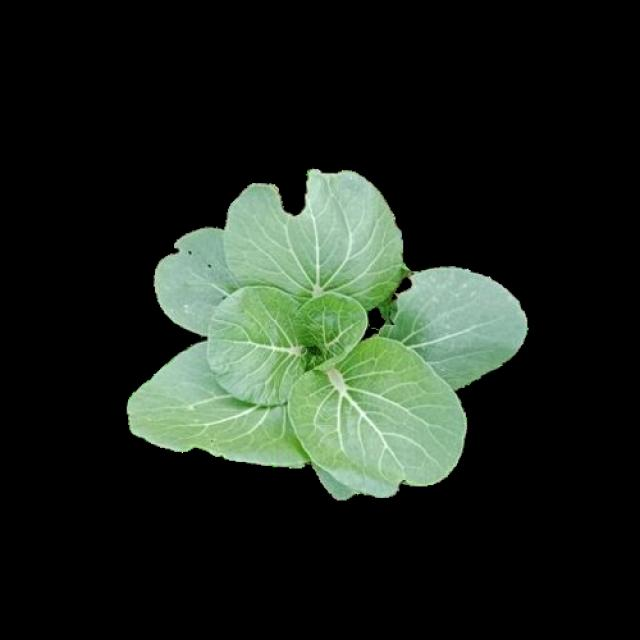mature: (130, 170, 524, 503)
unhealthy: (227, 168, 421, 318), (156, 224, 232, 337)
